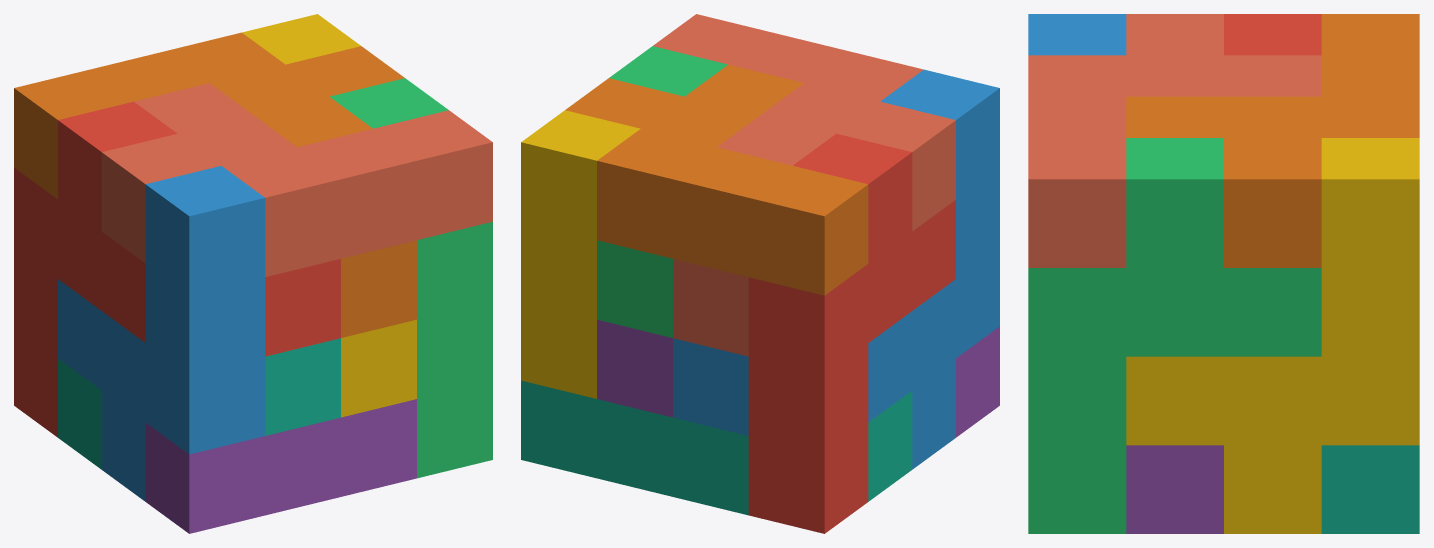
The model's file is tiling.obj.
The picture shows the model from 3 angles, left to right: view 1: azimuth 30°, elevation 25°; view 2: azimuth 150°, elevation 25°; view 3: azimuth 270°, elevation 25°; orthographic projection. The views are drawn at different scales.
Visible parts, largest first — view 1: copy_2, copy_8, copy_1, copy_6, copy_5, copy_3, copy_7, copy_4; view 2: copy_1, copy_6, copy_2, copy_8, copy_7, copy_4, copy_5, copy_3; view 3: copy_4, copy_3, copy_8, copy_6, copy_7, copy_5, copy_2, copy_1.
Boxes of the visible parts, left/top/right/bottom form: copy_2: left=58, top=165, right=265, bottom=501; copy_8: left=101, top=83, right=492, bottom=276; copy_1: left=14, top=101, right=340, bottom=437; copy_6: left=14, top=32, right=416, bottom=337; copy_5: left=145, top=399, right=416, bottom=533; copy_3: left=330, top=78, right=492, bottom=478; copy_7: left=58, top=338, right=340, bottom=469; copy_4: left=242, top=14, right=416, bottom=417; copy_1: left=748, top=133, right=955, bottom=533; copy_6: left=565, top=64, right=868, bottom=295; copy_2: left=673, top=69, right=999, bottom=469; copy_8: left=653, top=14, right=955, bottom=356; copy_7: left=521, top=380, right=912, bottom=515; copy_4: left=521, top=110, right=640, bottom=398; copy_5: left=597, top=319, right=999, bottom=437; copy_3: left=597, top=46, right=727, bottom=337; copy_4: left=1126, top=138, right=1419, bottom=533; copy_3: left=1028, top=138, right=1321, bottom=533; copy_8: left=1028, top=14, right=1321, bottom=267; copy_6: left=1126, top=14, right=1419, bottom=267; copy_7: left=1321, top=445, right=1419, bottom=533; copy_5: left=1126, top=445, right=1223, bottom=533; copy_2: left=1028, top=14, right=1126, bottom=55; copy_1: left=1224, top=14, right=1321, bottom=55.
Bounding box in the file's own units: 4 × 4 × 4.
